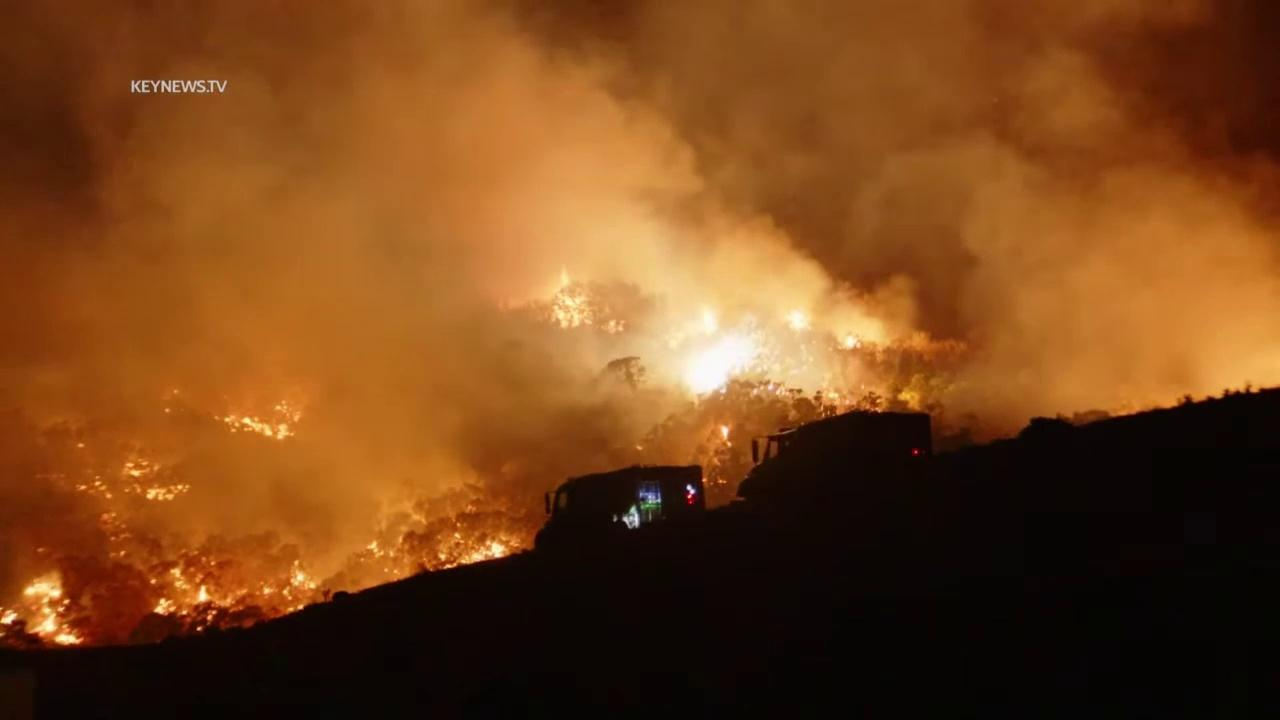fire: (149, 558, 320, 635), (682, 308, 782, 407), (0, 568, 87, 651), (546, 265, 603, 333), (214, 398, 303, 441), (120, 452, 193, 501), (431, 532, 512, 571), (96, 509, 133, 542), (73, 475, 115, 501), (833, 331, 863, 352), (783, 307, 806, 331), (599, 317, 628, 335), (365, 538, 385, 558), (717, 425, 735, 447), (109, 547, 129, 559), (74, 441, 88, 450)
smoke: (0, 0, 1280, 656)
